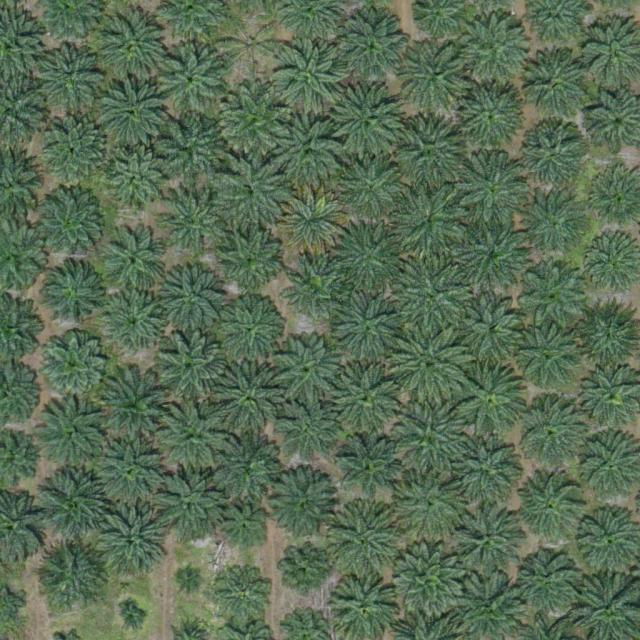Healthy: (99, 369, 177, 448), (391, 184, 469, 263), (394, 259, 472, 338), (391, 323, 469, 401), (206, 427, 277, 498), (95, 436, 166, 507), (94, 504, 165, 575), (39, 402, 110, 473), (401, 41, 472, 112), (459, 220, 530, 291), (392, 119, 463, 190), (275, 334, 346, 405), (216, 159, 287, 230), (34, 190, 105, 261), (515, 397, 585, 468), (458, 366, 528, 437), (450, 505, 520, 576), (392, 542, 462, 613), (266, 472, 337, 542), (215, 364, 285, 435), (159, 401, 229, 472), (152, 465, 222, 536), (34, 540, 105, 610), (519, 52, 589, 123), (459, 14, 529, 85), (460, 83, 530, 154), (516, 259, 586, 330), (512, 320, 582, 391), (455, 155, 525, 226), (330, 85, 401, 155), (332, 291, 402, 362), (331, 361, 401, 432), (101, 9, 171, 80), (99, 76, 169, 147), (159, 47, 229, 118), (219, 85, 289, 156), (273, 116, 343, 187), (338, 12, 408, 83), (159, 187, 229, 258), (156, 332, 226, 403), (38, 330, 108, 401), (452, 432, 522, 502), (395, 400, 465, 470), (394, 468, 464, 538), (329, 503, 399, 573), (40, 468, 110, 538), (458, 295, 528, 365), (338, 154, 408, 224), (332, 222, 402, 292), (154, 115, 224, 185), (274, 40, 344, 110), (214, 225, 284, 295), (517, 549, 580, 612), (337, 439, 400, 502), (524, 192, 587, 255), (45, 118, 108, 181), (104, 234, 167, 297), (523, 472, 585, 535), (520, 123, 583, 185), (43, 46, 105, 109), (106, 151, 168, 214), (220, 300, 282, 363), (162, 266, 224, 329), (105, 292, 167, 354), (45, 263, 107, 325), (288, 260, 343, 316), (280, 406, 335, 461), (215, 566, 270, 621), (219, 505, 266, 552)
Small: (282, 547, 329, 594), (180, 568, 204, 592), (121, 607, 144, 631)
Yellow: (277, 189, 348, 259), (220, 15, 283, 78)
